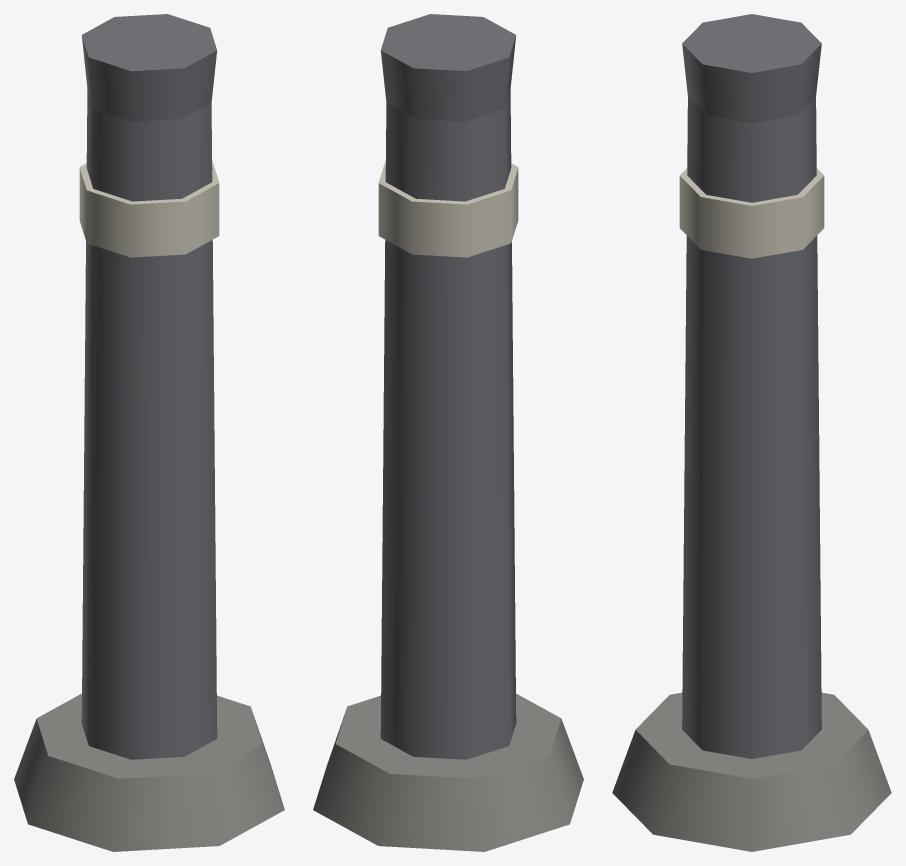
The model's file is SM_P1_Bollard_Kit_A.obj.
3 renders of one model, left to right at view 1: azimuth 30°, elevation 25°; view 2: azimuth 150°, elevation 25°; view 3: azimuth 270°, elevation 25°, orthographic.
Visible parts, largest first — view 1: shaft, base_ring, cap, band; view 2: shaft, base_ring, cap, band; view 3: shaft, base_ring, cap, band.
Part boxes in pixels (x1,y1,x2,y2): shaft: (81,89,217,759); base_ring: (14,693,284,851); cap: (81,14,217,121); band: (79,160,219,257); shaft: (380,89,516,759); base_ring: (313,693,583,851); cap: (380,14,516,121); band: (378,160,518,257); shaft: (682,97,821,758); base_ring: (612,692,891,851); cap: (682,14,821,123); band: (679,168,824,258).
Size of the model in its own units: 0.24 by 0.71 by 0.24.
